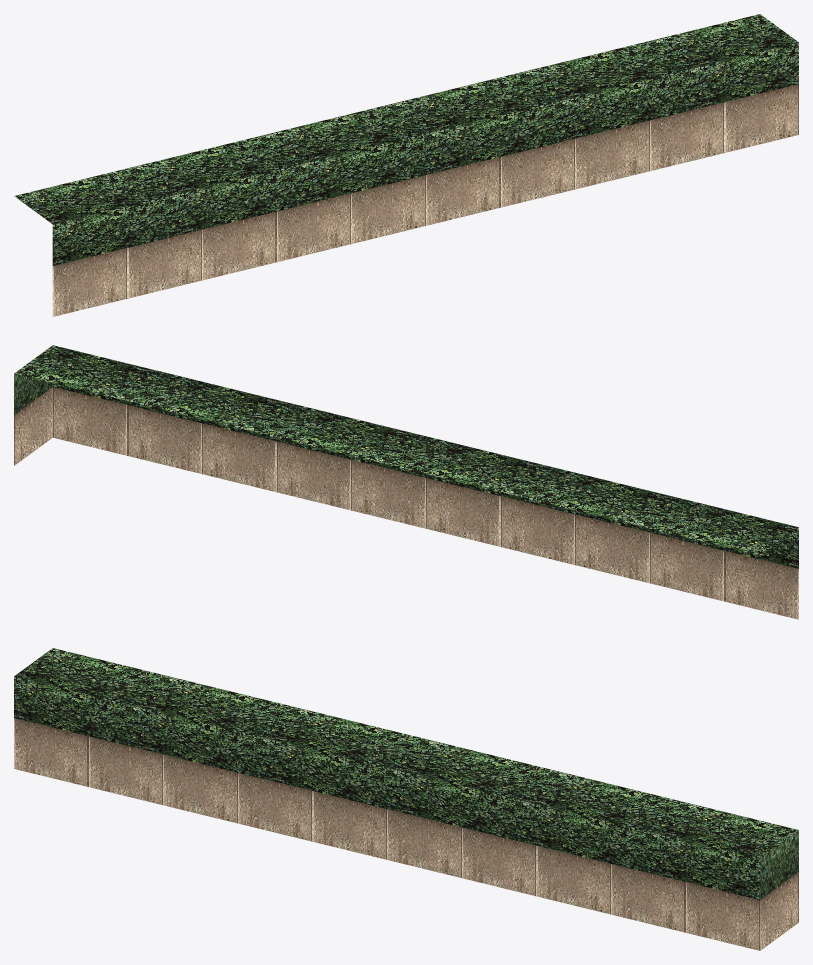
The model's file is stage-newy-p4-82.glb.
3 renders of one model, top to bottom at view 1: azimuth 30°, elevation 25°; view 2: azimuth 150°, elevation 25°; view 3: azimuth 330°, elevation 25°, orthographic.
Size of the model in its own units: 11.1 by 1.32 by 1.
Materials: 2 (2 with a texture image).
